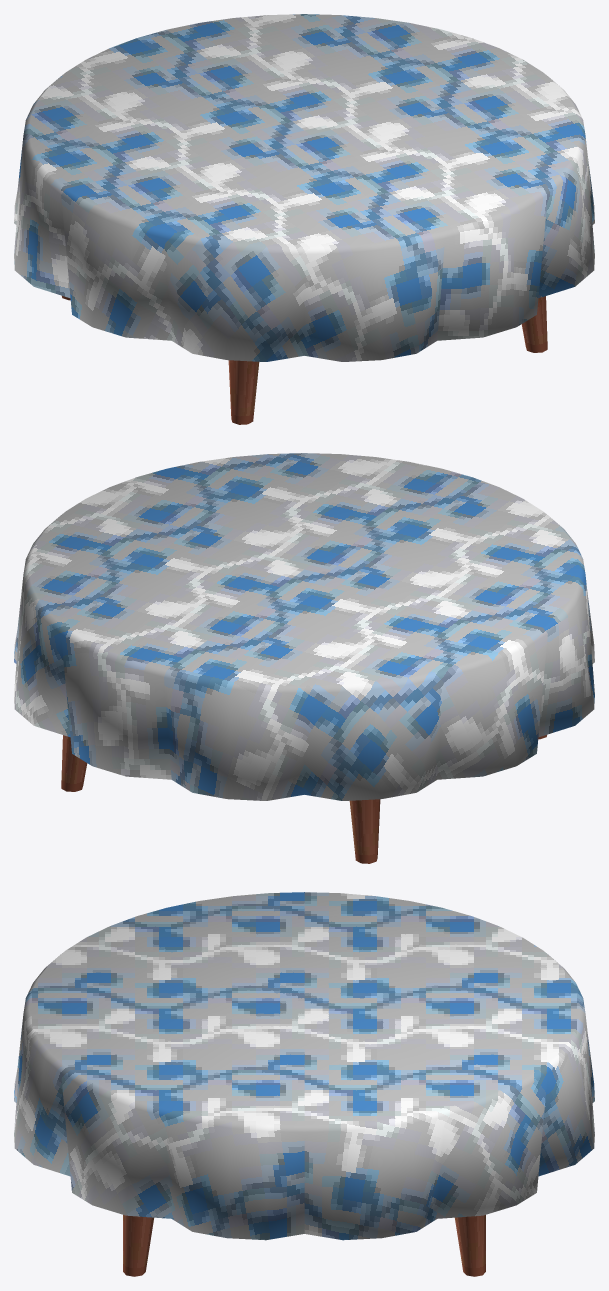
File: rmk_scd_tableL.dae
3 views of the same model, one above another, from view 1: azimuth 30°, elevation 25°; view 2: azimuth 150°, elevation 25°; view 3: azimuth 270°, elevation 25° (orthographic).
Parts seen in each view (by area): view 1: vsn_mesh_1_, vsn_mesh_0_; view 2: vsn_mesh_1_, vsn_mesh_0_; view 3: vsn_mesh_1_, vsn_mesh_0_.
Part boxes in pixels (x1,y1,x2,y2): vsn_mesh_1_: (14, 14, 594, 361); vsn_mesh_0_: (62, 296, 547, 424); vsn_mesh_1_: (14, 453, 594, 800); vsn_mesh_0_: (61, 735, 546, 863); vsn_mesh_1_: (14, 892, 594, 1240); vsn_mesh_0_: (123, 1215, 485, 1276).
Size of the model in its own units: 59.02 by 21.48 by 59.02.
Materials: 2 (2 with a texture image).
